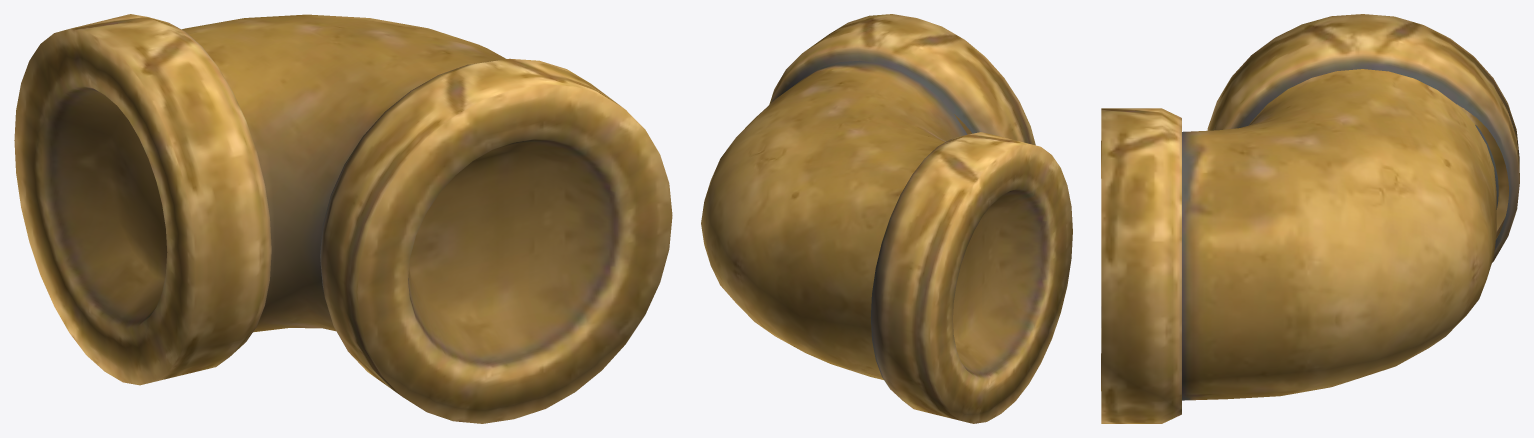
3 views of the same model, side by side, from view 1: azimuth 30°, elevation 25°; view 2: azimuth 150°, elevation 25°; view 3: azimuth 270°, elevation 25° (orthographic). The views are drawn at different scales.
Parts seen in each view (by area): view 1: SM_Dragonkin_Pipes_02v3_LOD0; view 2: SM_Dragonkin_Pipes_02v3_LOD0; view 3: SM_Dragonkin_Pipes_02v3_LOD0.
Part boxes in pixels (x1=…): SM_Dragonkin_Pipes_02v3_LOD0: x1=14, y1=14, x2=672, y2=423; SM_Dragonkin_Pipes_02v3_LOD0: x1=701, y1=14, x2=1072, y2=423; SM_Dragonkin_Pipes_02v3_LOD0: x1=1101, y1=14, x2=1519, y2=423.
Bounding box in the file's own units: 0.6927 × 0.5242 × 0.6953.
Materials: 1 (1 with a texture image).
